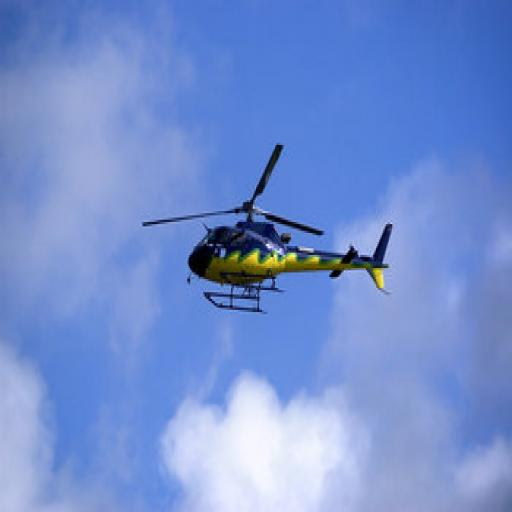helicopter: (154, 164, 399, 313)
